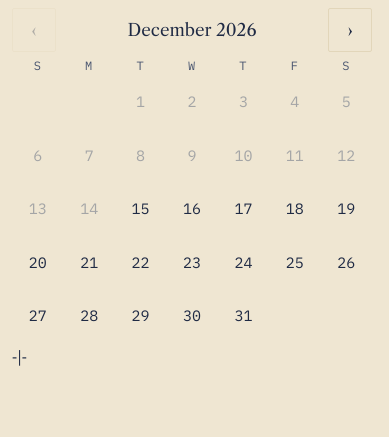
it: the month grid › pages months only within the bounds, across a year end
The width and height of the screenshot is (389, 437).
Expected: the text "December 2026" is shown, [128,20,256,40]
Expected: the button named "Previous month" is disabled, [12,8,56,52]
Click the button named "Next month" at (350, 30), box [328,8,372,52]
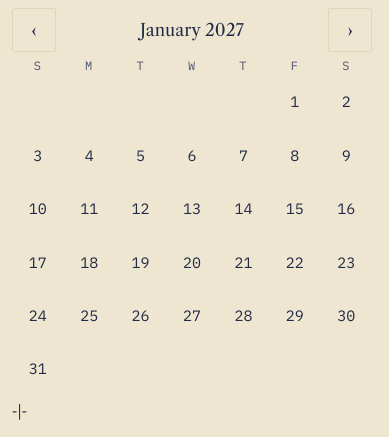
Now the text "January 2027" is shown, box [140,20,244,40]
Click the button named "Next month" at (350, 30), box [328,8,372,52]
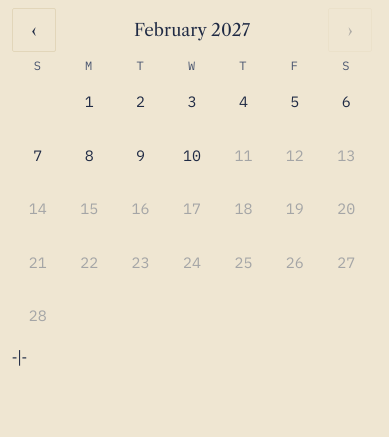
Now the text "February 2027" is shown, box [134,20,250,40]
Now the button named "Thu, Feb 11" is disabled, box [218,129,269,181]
